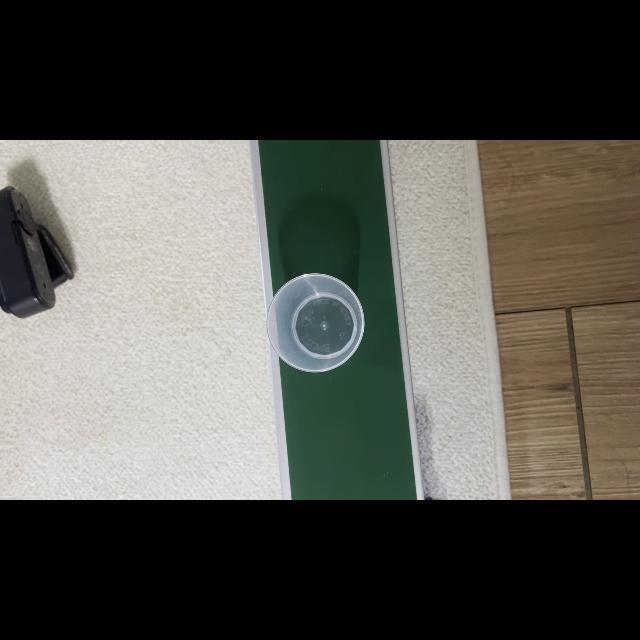clean: (277, 280, 361, 366)
